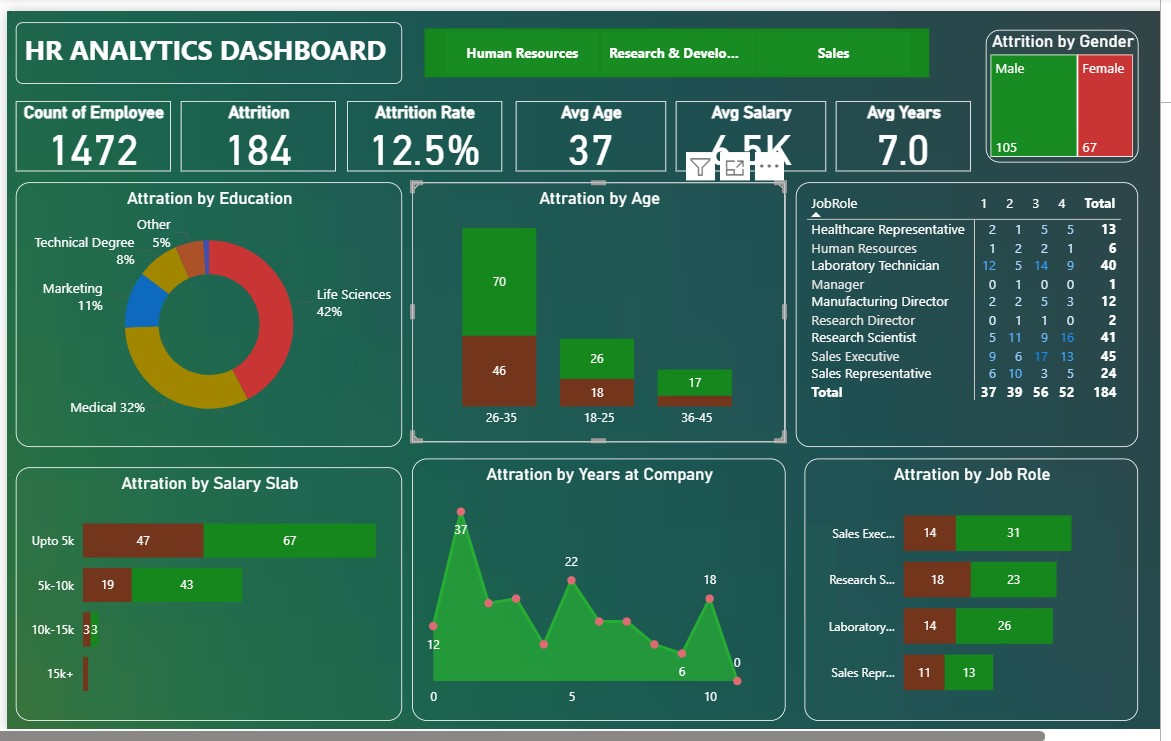

The dashboard page shown, as its layout file describes it:
{"tool":"powerbi","page":{"name":"HR Analytics Dashboard_OUTRIX ","canvas":[1280,720],"ordinal":0},"visuals":[{"type":"card","title":"Count of Employee","fields":{"Values":["CountNonNull(HR_Analytic.EmpID)"]},"box":[8.8,90,155,70],"z":0},{"type":"card","title":"Avg Age","fields":{"Values":["Avg(HR_Analytic.Age)"]},"box":[508.8,90,150,70],"z":1000},{"type":"card","title":"Avg Salary","fields":{"Values":["Avg(HR_Analytic.MonthlyIncome)"]},"box":[668.8,90,150,70],"z":2000},{"type":"card","title":"Avg Years","fields":{"Values":["Avg(HR_Analytic.YearsAtCompany)"]},"box":[828.8,90,135,70],"z":3000},{"type":"donutChart","title":"Attration by Education","fields":{"Category":["HR_Analytic.EducationField"],"Y":["Sum(HR_Analytic.AttrationCount)"]},"box":[8.8,171.2,386.2,265],"z":4000},{"type":"columnChart","title":"Attration by Age","fields":{"Category":["HR_Analytic.AgeGroup"],"Y":["Sum(HR_Analytic.AttrationCount)"],"Series":["HR_Analytic.Gender"]},"box":[405,171.2,373.8,260],"z":5000},{"type":"pivotTable","fields":{"Rows":["HR_Analytic.JobRole"],"Columns":["HR_Analytic.JobSatisfaction"],"Values":["Sum(HR_Analytic.AttrationCount)"]},"box":[788.8,171.2,342.5,265],"z":6000},{"type":"barChart","title":"Attration by Salary Slab","fields":{"Category":["HR_Analytic.SalarySlab"],"Y":["Sum(HR_Analytic.AttrationCount)"],"Series":["HR_Analytic.Gender"]},"box":[8.8,456.2,386.2,253.8],"z":7000},{"type":"barChart","title":"Attration by Job Role","fields":{"Category":["HR_Analytic.JobRole"],"Y":["Sum(HR_Analytic.AttrationCount)"],"Series":["HR_Analytic.Gender"]},"box":[797.5,447.5,333.8,262.5],"z":8000},{"type":"areaChart","title":"Attration by Years at Company","fields":{"Category":["HR_Analytic.YearsAtCompany"],"Y":["Sum(HR_Analytic.AttrationCount)"]},"box":[405,447.5,373.8,262.5],"z":9000},{"type":"treemap","title":"Attrition by Gender","fields":{"Group":["HR_Analytic.Gender"],"Values":["Sum(HR_Analytic.AttrationCount)"]},"box":[978.8,18.8,152.5,132.5],"z":10000},{"type":"slicer","fields":{"Values":["HR_Analytic.Department"]},"box":[417.5,17.5,505,48.8],"z":11000},{"type":"textbox","box":[8.8,11.2,386.2,61.2],"z":12000},{"type":"card","title":"Attrition","fields":{"Values":["Sum(HR_Analytic.AttrationCount)"]},"box":[173.8,90,155,70],"z":13000},{"type":"card","title":"Attrition Rate","fields":{"Values":["HR_Analytic.AttritionRate"]},"box":[340,90,155,70],"z":14000}]}

Visuals, with their boxes on the page's 1280x720 design canvas (x1, y1, x2, y2). These are canvas units, not pixel positions in the 1171x741 screenshot, which may show the page scaled, cropped or inside an application window:
"Count of Employee" card: {"left": 9, "top": 90, "right": 164, "bottom": 160}
"Avg Age" card: {"left": 509, "top": 90, "right": 659, "bottom": 160}
"Avg Salary" card: {"left": 669, "top": 90, "right": 819, "bottom": 160}
"Avg Years" card: {"left": 829, "top": 90, "right": 964, "bottom": 160}
"Attration by Education" donutChart: {"left": 9, "top": 171, "right": 395, "bottom": 436}
"Attration by Age" columnChart: {"left": 405, "top": 171, "right": 779, "bottom": 431}
pivotTable - HR_Analytic.JobRole x HR_Analytic.JobSatisfaction: {"left": 789, "top": 171, "right": 1131, "bottom": 436}
"Attration by Salary Slab" barChart: {"left": 9, "top": 456, "right": 395, "bottom": 710}
"Attration by Job Role" barChart: {"left": 798, "top": 448, "right": 1131, "bottom": 710}
"Attration by Years at Company" areaChart: {"left": 405, "top": 448, "right": 779, "bottom": 710}
"Attrition by Gender" treemap: {"left": 979, "top": 19, "right": 1131, "bottom": 151}
slicer - HR_Analytic.Department: {"left": 418, "top": 18, "right": 922, "bottom": 66}
textbox: {"left": 9, "top": 11, "right": 395, "bottom": 72}
"Attrition" card: {"left": 174, "top": 90, "right": 329, "bottom": 160}
"Attrition Rate" card: {"left": 340, "top": 90, "right": 495, "bottom": 160}
